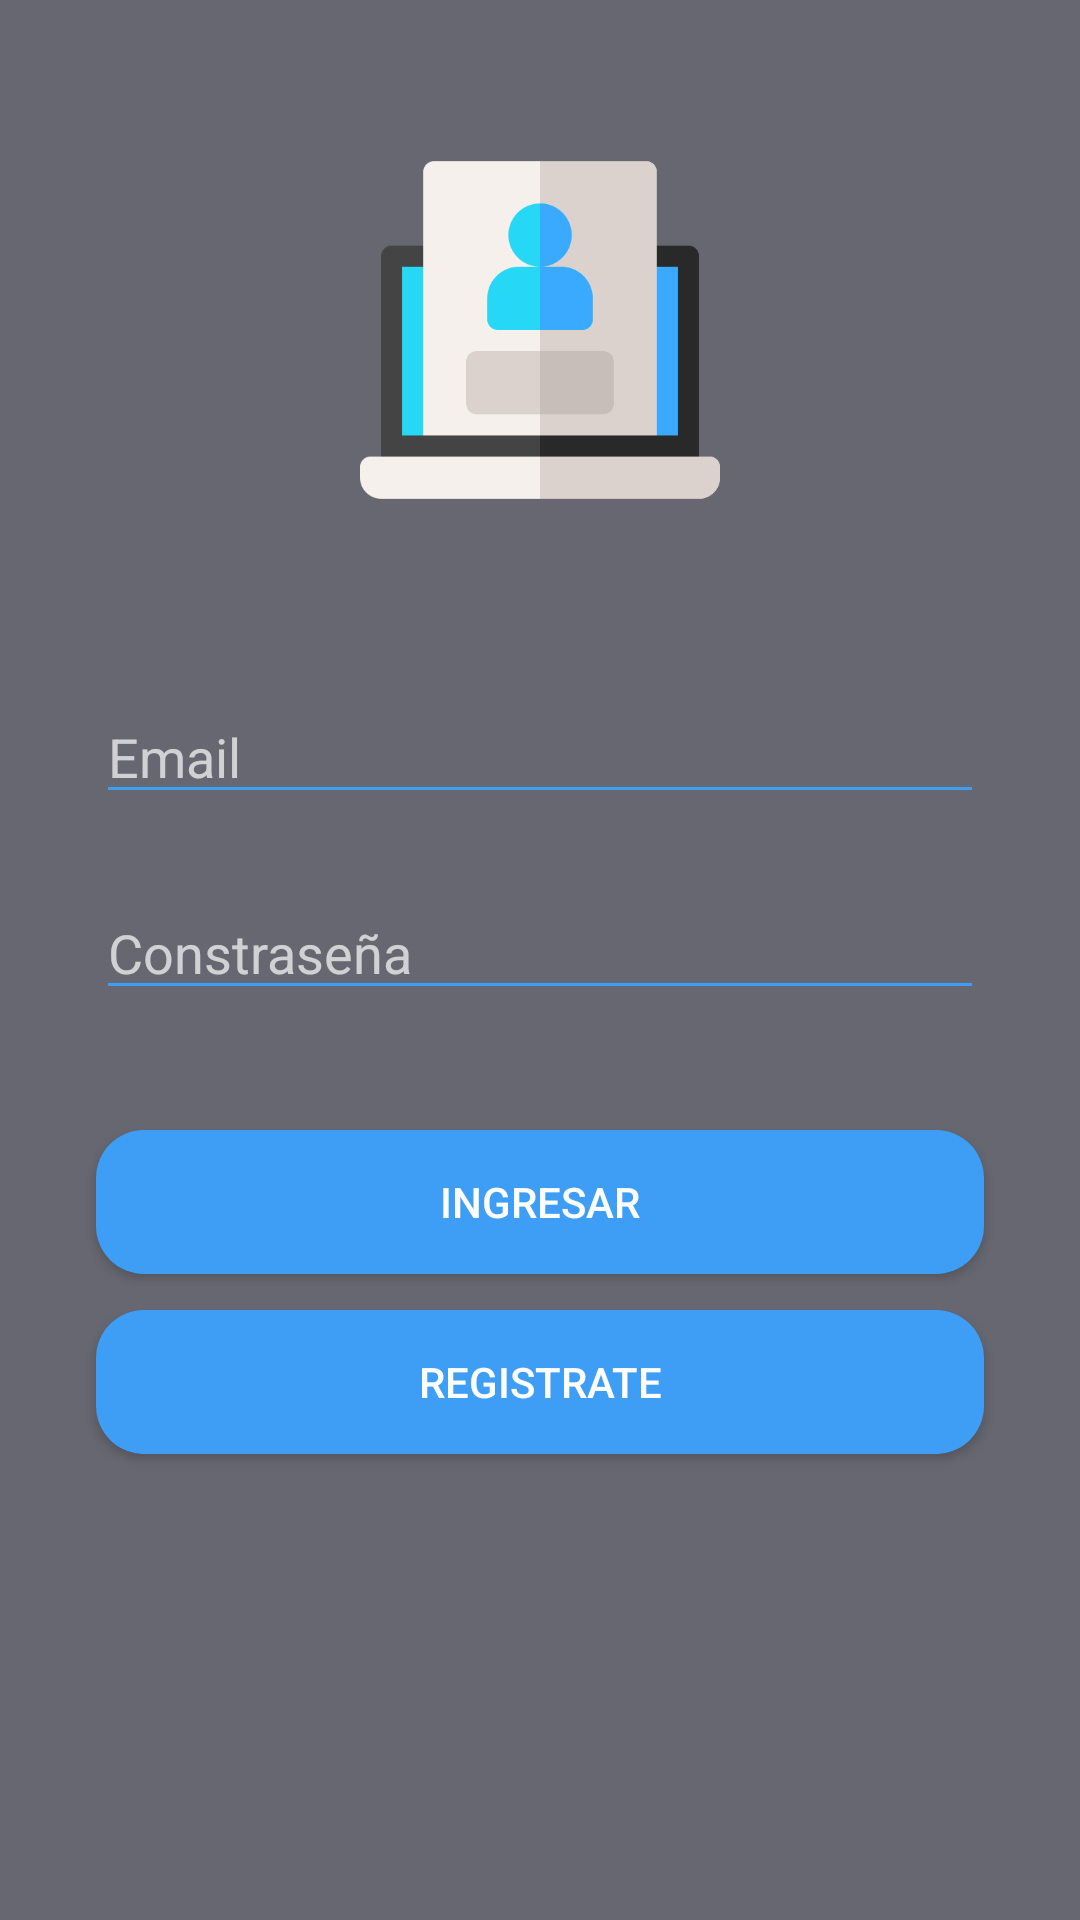

Icon bounding boxes for this 1080px×1920px phone screenshot, format (x1, y1, x2, y2):
loginimg: (360, 161, 720, 499)
